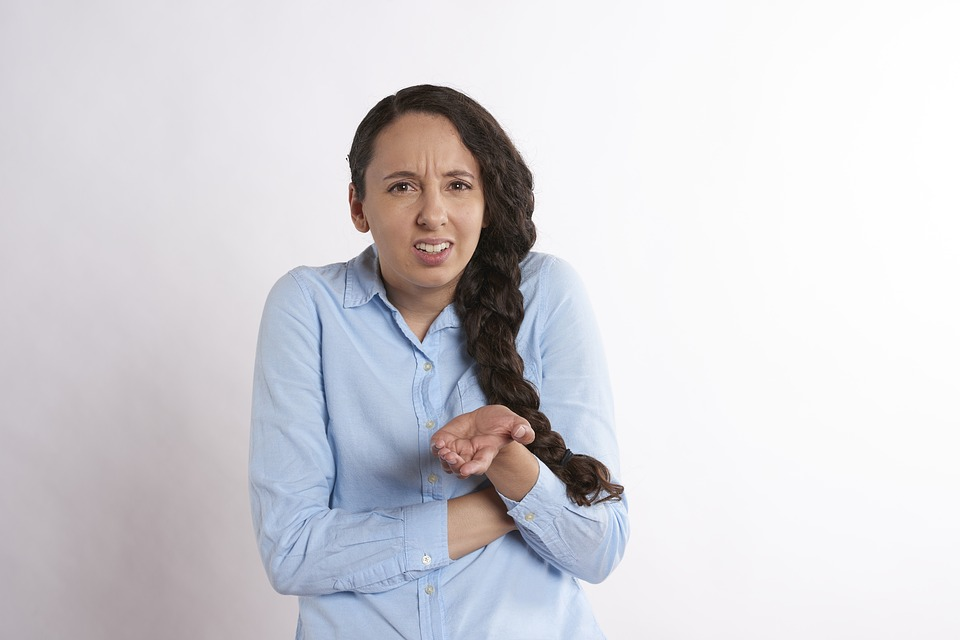angry: (354, 120, 498, 308)
